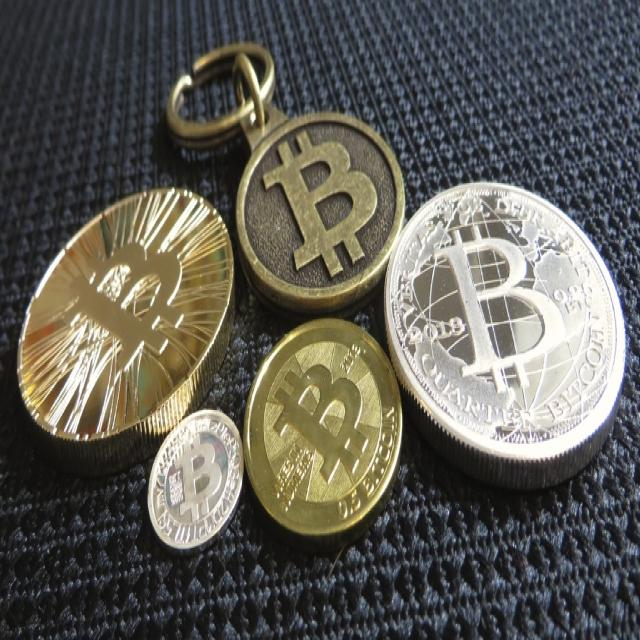Coin: (381, 172, 626, 483), (20, 187, 234, 465), (236, 312, 406, 541), (146, 404, 245, 556)
